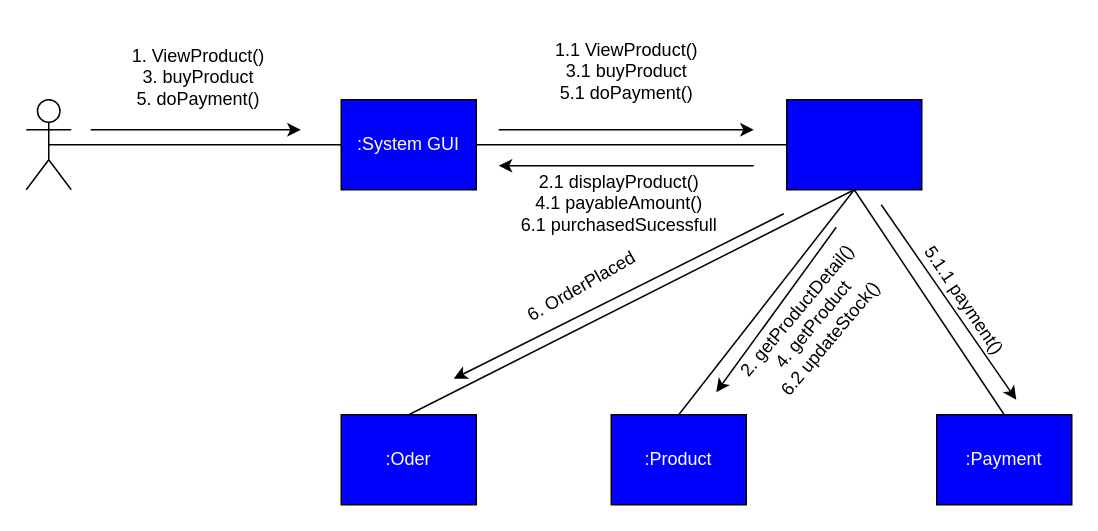
Image size: 1098x531. Some labels were removed from this diagram. Here are the shapes that lost their labels. From the top down, the box of each, then its label:
(25, 98, 71, 190): User
(785, 98, 922, 190): :Purchase Order
